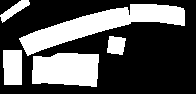parkingspot: (19, 7, 130, 55), (32, 53, 98, 86), (130, 4, 184, 25), (0, 0, 29, 22), (3, 50, 21, 84), (107, 36, 125, 54)
